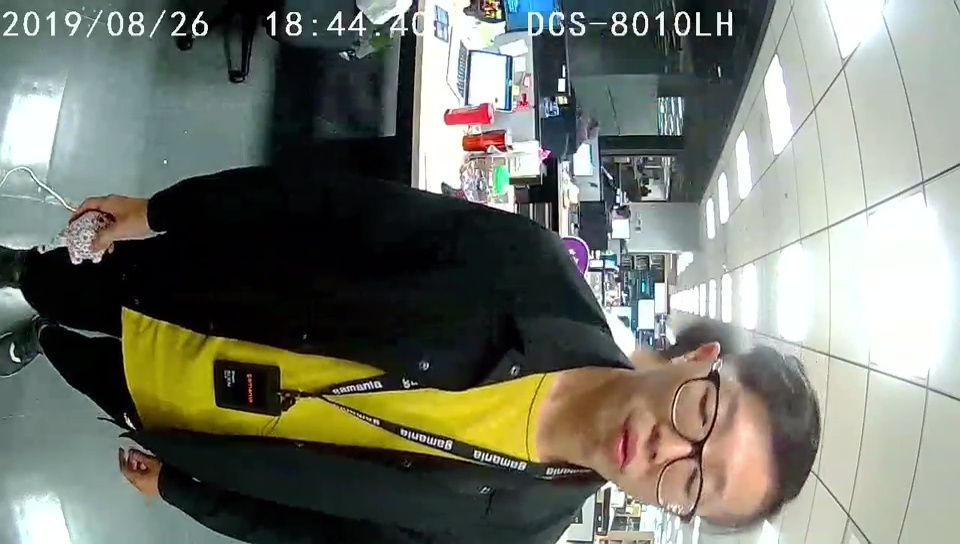pig: (65, 209, 112, 266)
